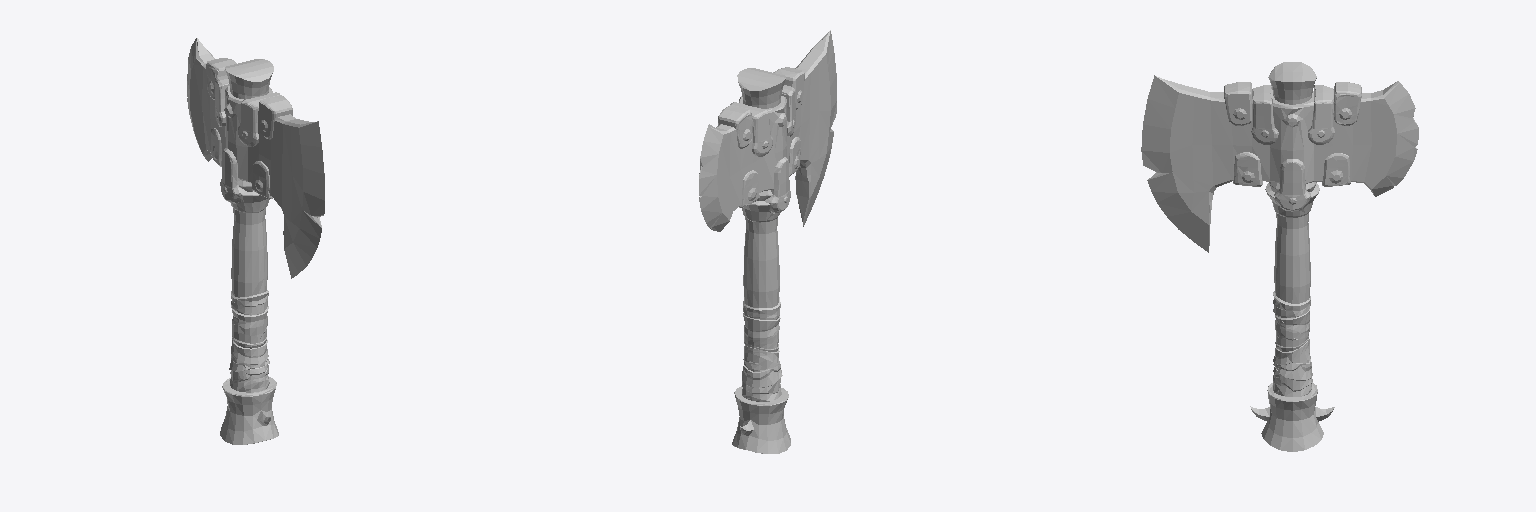
The model's file is Axe_FINAL1.obj.
3 renders of one model, left to right at view 1: azimuth 30°, elevation 25°; view 2: azimuth 150°, elevation 25°; view 3: azimuth 270°, elevation 25°, orthographic.
Visible parts, largest first — view 1: Axe; view 2: Axe; view 3: Axe.
Boxes of the visible parts, x1,y1,x2,y2 form: Axe: [187, 38, 324, 444]; Axe: [699, 30, 836, 453]; Axe: [1141, 62, 1418, 451].
Bounding box in the file's own units: 0.1427 × 0.9976 × 0.6801.